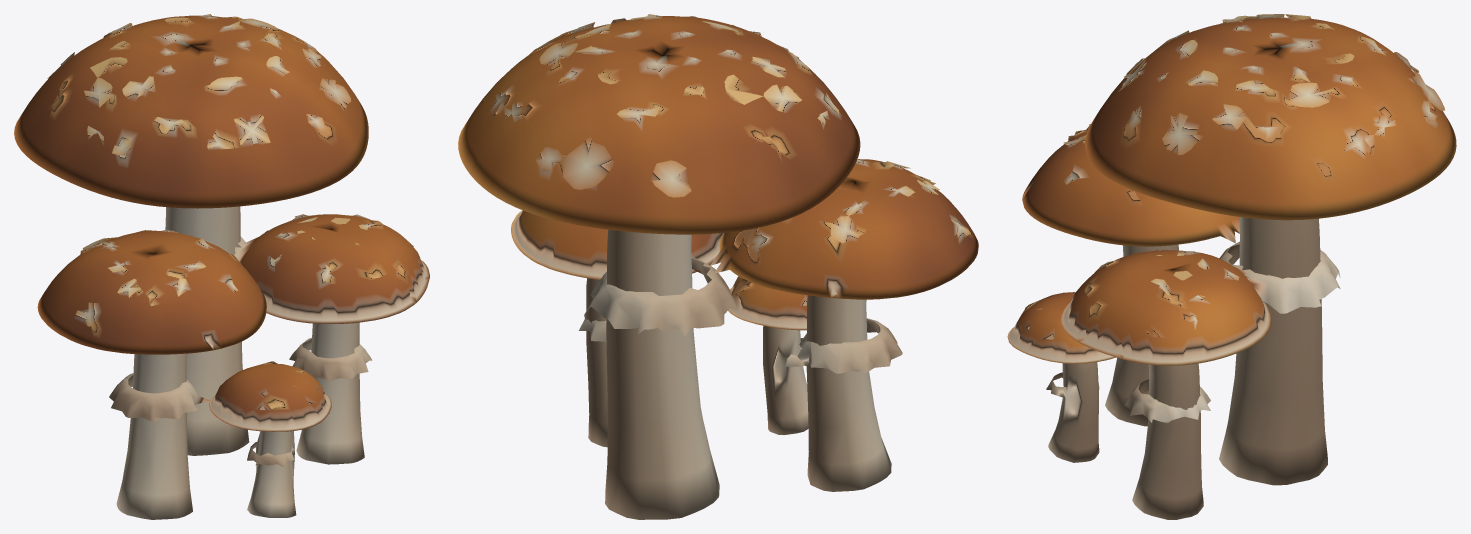
Rendered from mushrooms.glb.
3 views of the same model, side by side, from view 1: azimuth 30°, elevation 25°; view 2: azimuth 150°, elevation 25°; view 3: azimuth 270°, elevation 25° (orthographic). The views are drawn at different scales.
Parts seen in each view (by area): view 1: mushrooms; view 2: mushrooms; view 3: mushrooms.
Part boxes in pixels (box(x1,y1,x2,y2)): mushrooms: box(14, 14, 429, 519); mushrooms: box(458, 14, 978, 519); mushrooms: box(1007, 14, 1456, 519).
Bounding box in the file's own units: 3.18 × 3.21 × 3.15.
